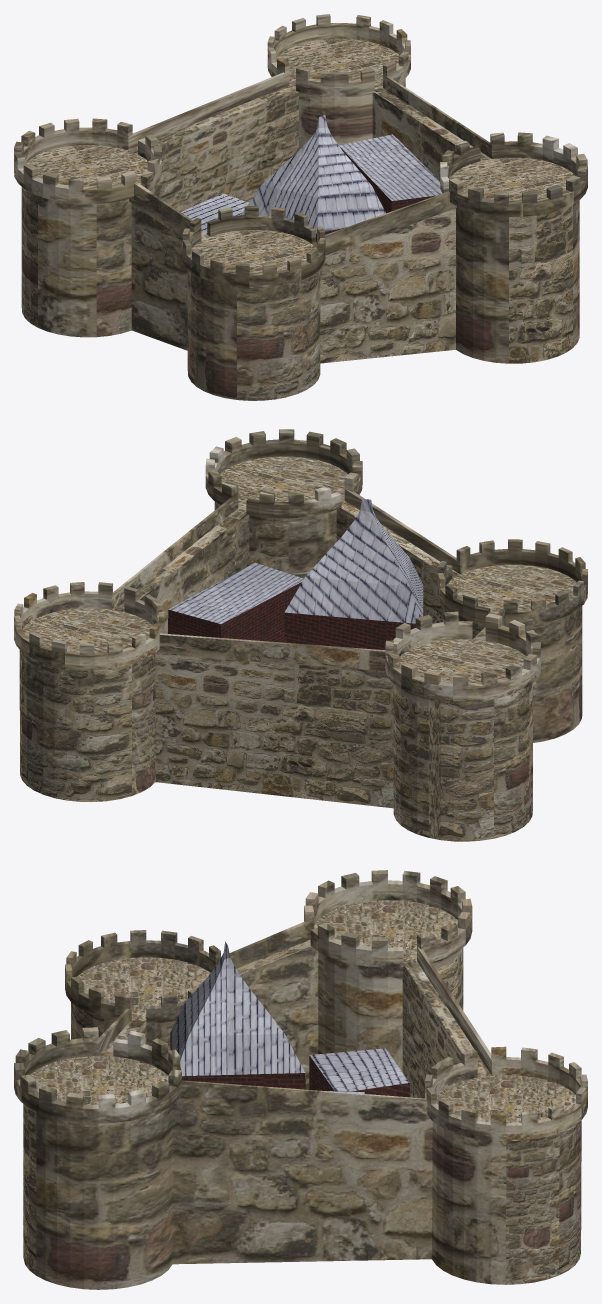
Rendered from TownCastle.fbx.
3 renders of one model, top to bottom at view 1: azimuth 30°, elevation 25°; view 2: azimuth 150°, elevation 25°; view 3: azimuth 270°, elevation 25°, orthographic. The views are drawn at different scales.
Visible parts, largest first — view 1: Cube; view 2: Cube; view 3: Cube.
Part boxes in pixels (x1,y1,x2,y2): Cube: (14,14,587,400); Cube: (14,429,587,841); Cube: (14,870,587,1289).
Bounding box in the file's own units: 748 × 352 × 762.
